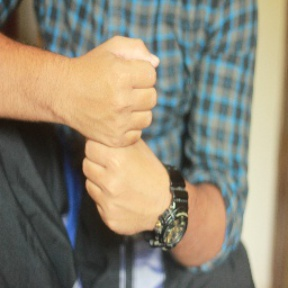G: (69, 28, 171, 235)
